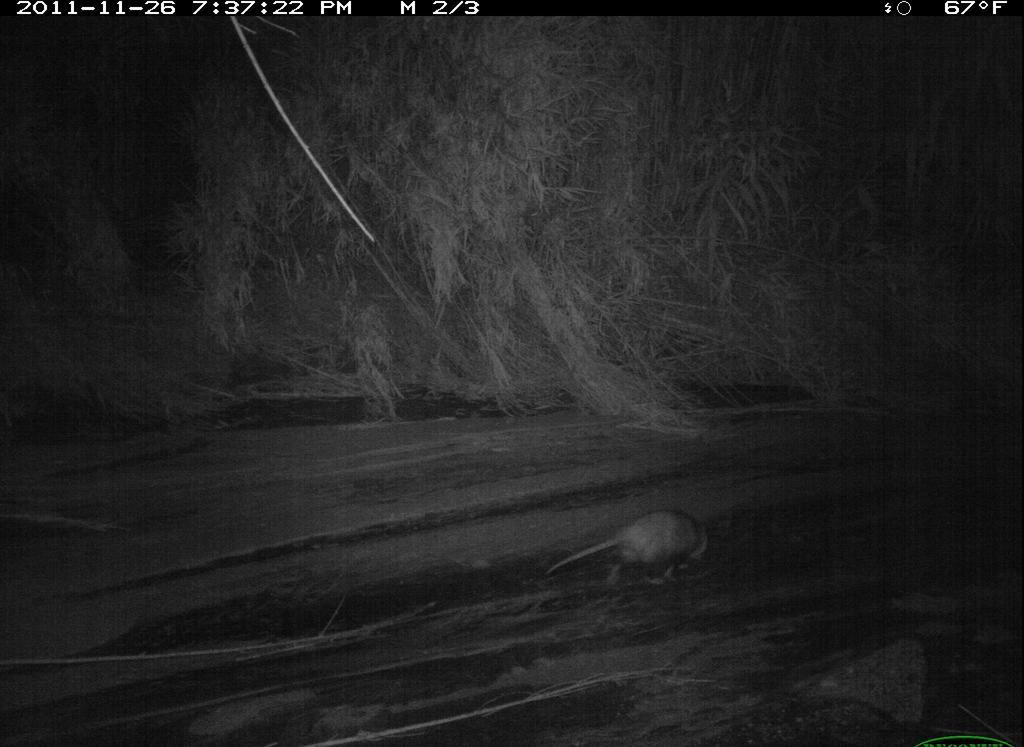opossum: (543, 507, 719, 594)
